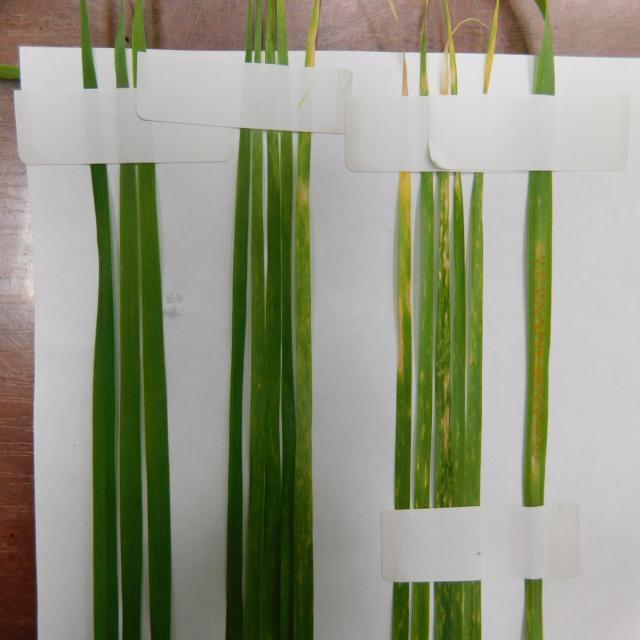Yellow_Rust: (394, 171, 411, 508)
